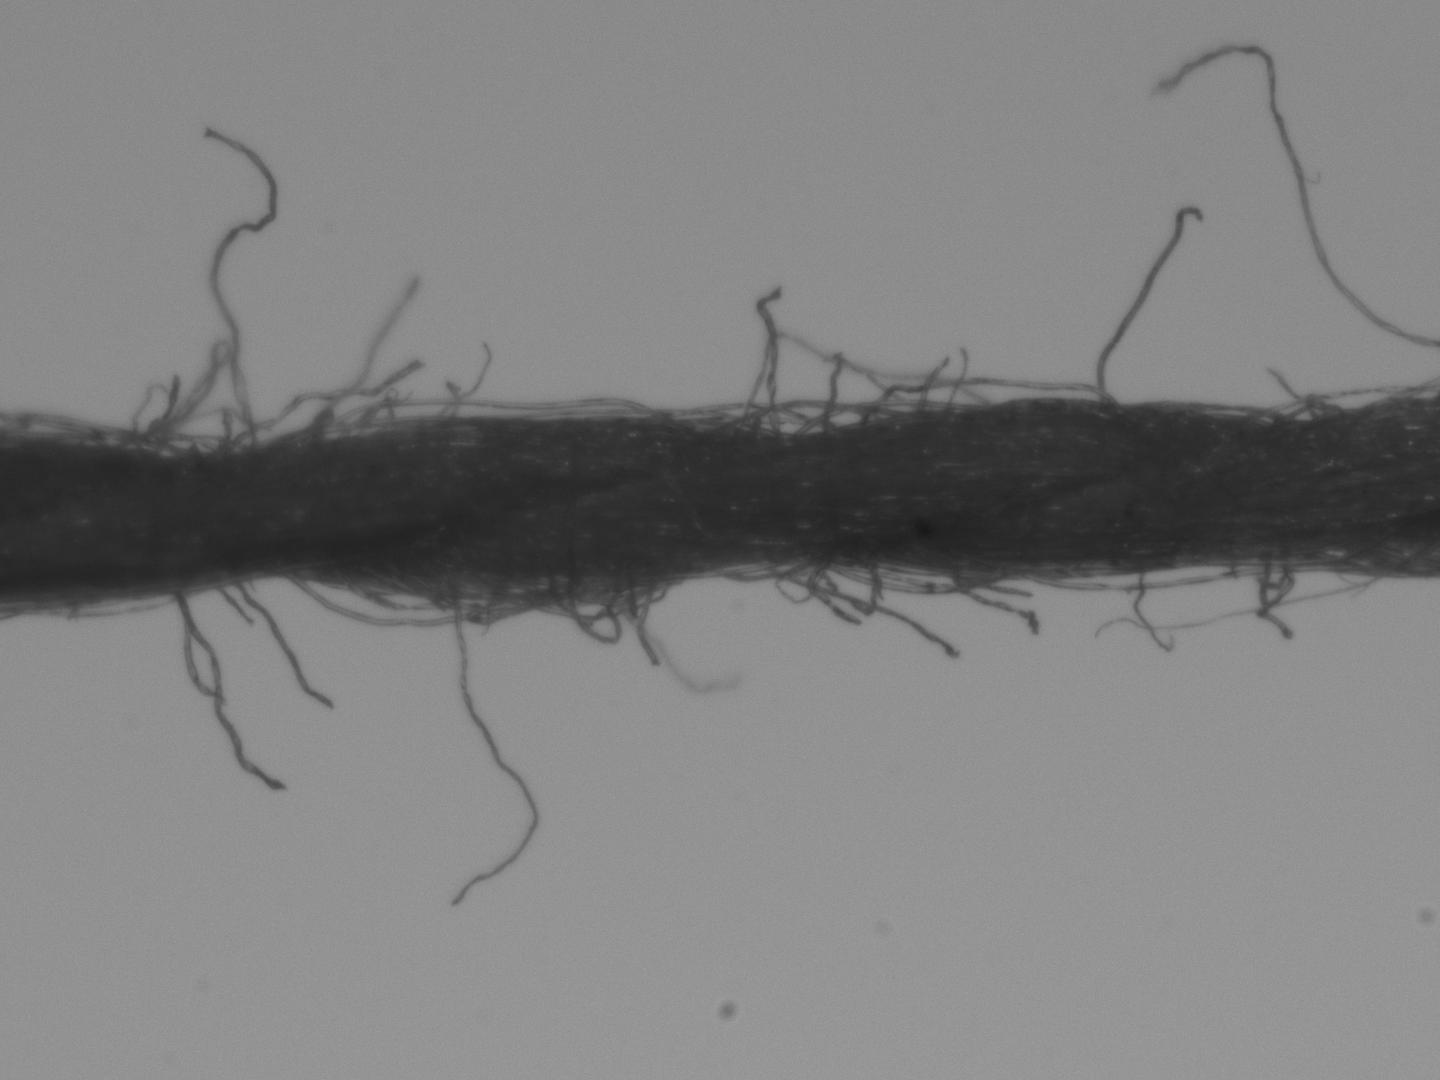loop_fiber: (320, 395, 664, 440), (281, 580, 575, 631), (483, 571, 678, 646), (710, 394, 904, 440), (1020, 562, 1290, 593), (816, 556, 1014, 596), (26, 589, 193, 619), (1167, 398, 1281, 424)
protruding_fiber: (439, 583, 537, 901), (170, 588, 285, 799), (203, 123, 278, 445), (1094, 209, 1206, 407), (229, 581, 334, 715)
